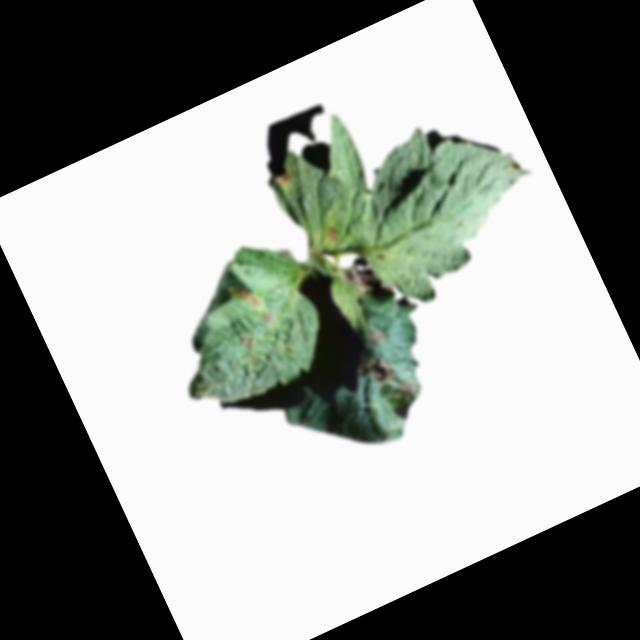Early_blight: (340, 255, 386, 304), (354, 351, 399, 393), (230, 281, 261, 315), (364, 324, 393, 352), (390, 377, 418, 404), (273, 168, 294, 189), (323, 225, 342, 245), (240, 334, 258, 353), (259, 310, 275, 327)
